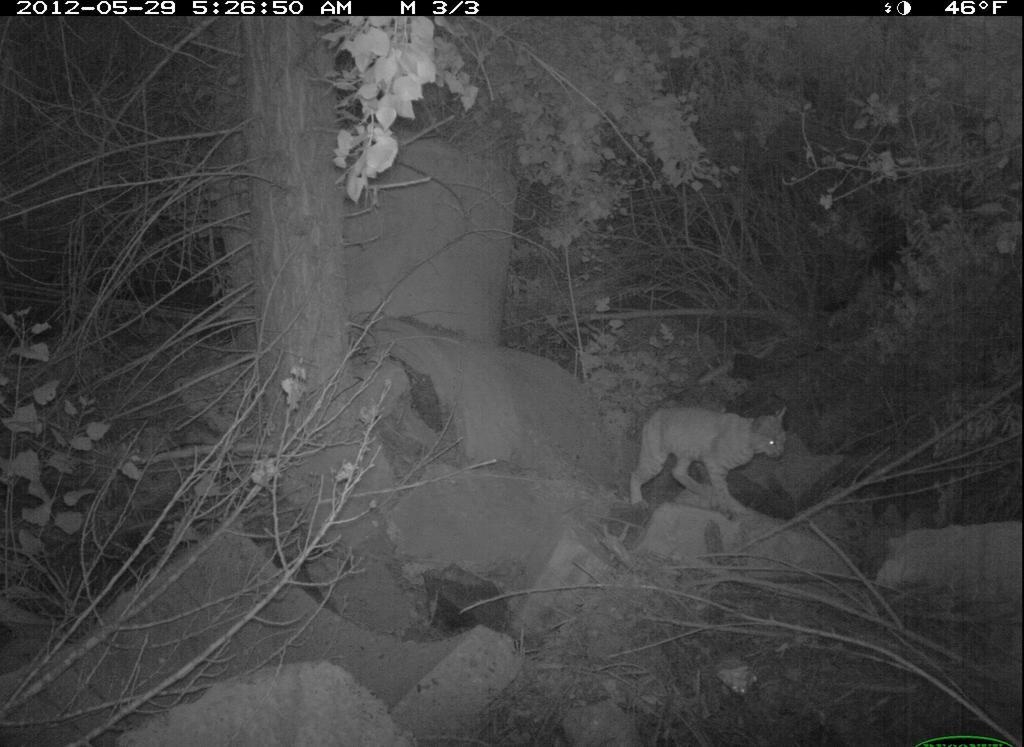bobcat: (626, 397, 793, 525)
